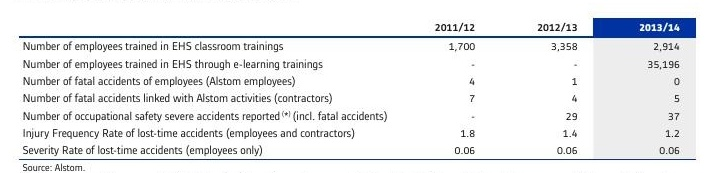table: (0, 0, 715, 173)
